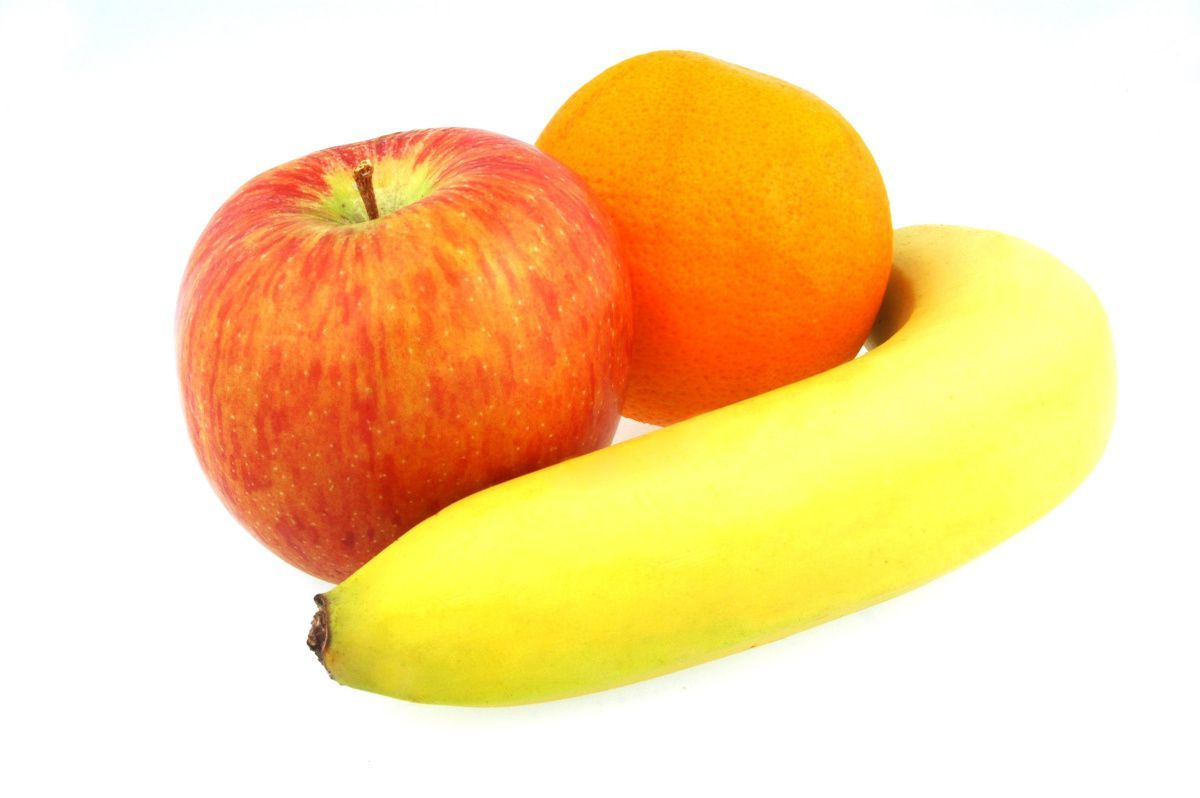apple: (173, 127, 653, 611)
banana: (283, 215, 1172, 764)
orange: (485, 43, 908, 469)
